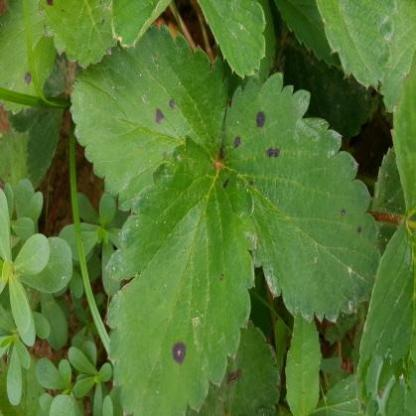Strawberry_Leaf_Spot: (105, 133, 260, 415), (219, 69, 380, 326), (67, 23, 232, 212), (44, 0, 173, 72), (0, 0, 56, 116)
